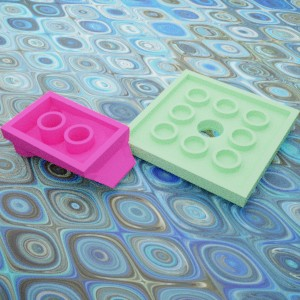lego: (116, 69, 299, 207), (0, 90, 135, 187)
